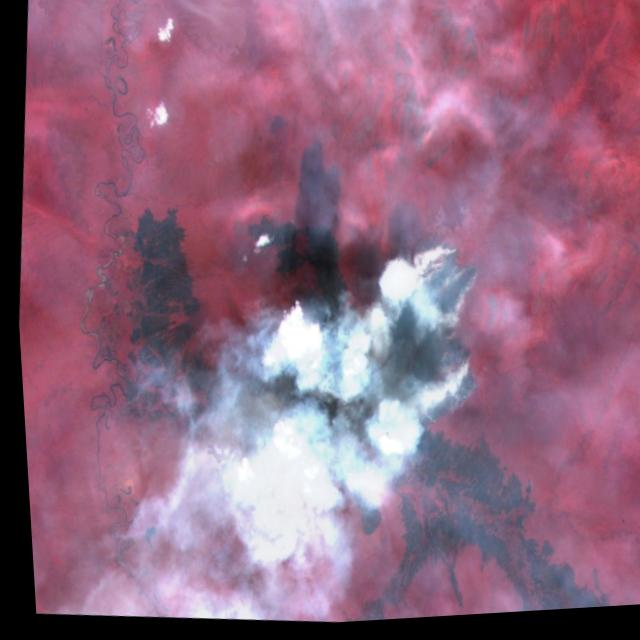fire: (361, 225, 497, 436)
